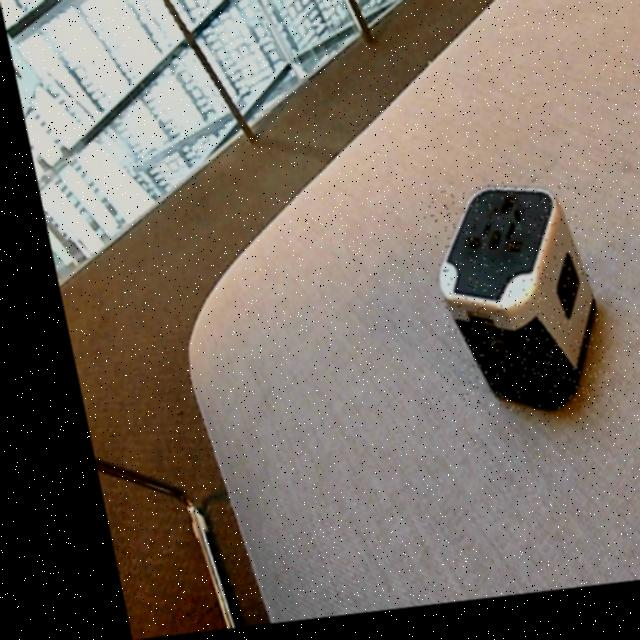adapter: (409, 186, 596, 429)
